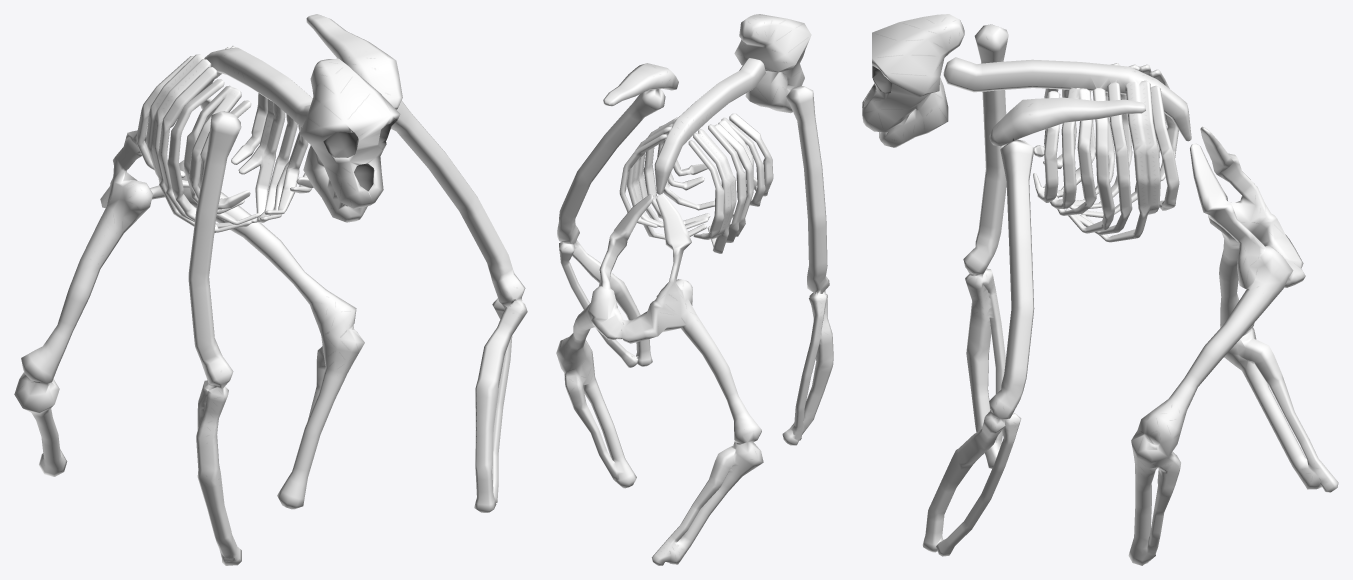
Rendered from gorilla-skeleton.fbx.
3 views of the same model, side by side, from view 1: azimuth 30°, elevation 25°; view 2: azimuth 150°, elevation 25°; view 3: azimuth 270°, elevation 25° (orthographic). The views are drawn at different scales.
Visible parts, largest first — view 1: unamed; view 2: unamed; view 3: unamed.
Part boxes in pixels (bbox=[...]): unamed: bbox=[14, 14, 527, 565]; unamed: bbox=[556, 14, 833, 565]; unamed: bbox=[862, 14, 1338, 565].
Bounding box in the file's own units: 0.6876 × 0.9264 × 0.7738.
Materials: 1 (1 with a texture image).
